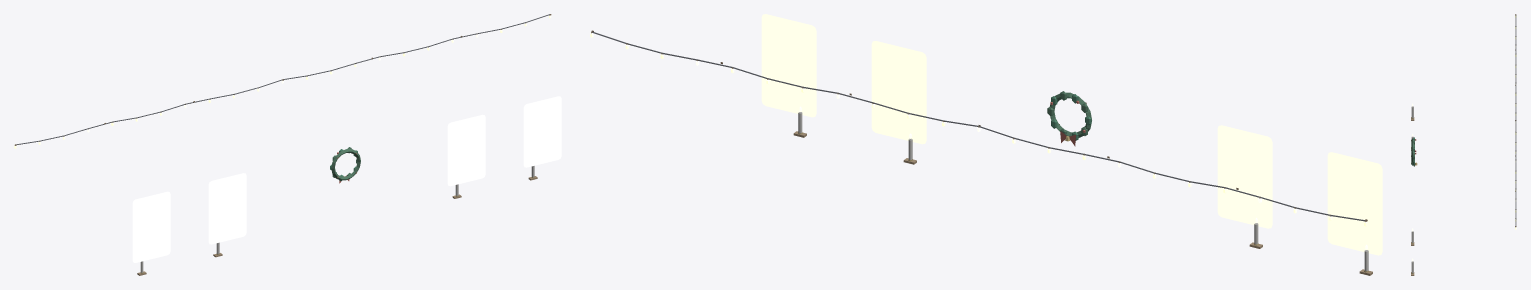
Rendered from house_dress_manor.glb.
3 renders of one model, left to right at view 1: azimuth 30°, elevation 25°; view 2: azimuth 150°, elevation 25°; view 3: azimuth 270°, elevation 25°, orthographic. The views are drawn at different scales.
Bounding box in the file's own units: 9.88 × 1.74 × 2.08.
